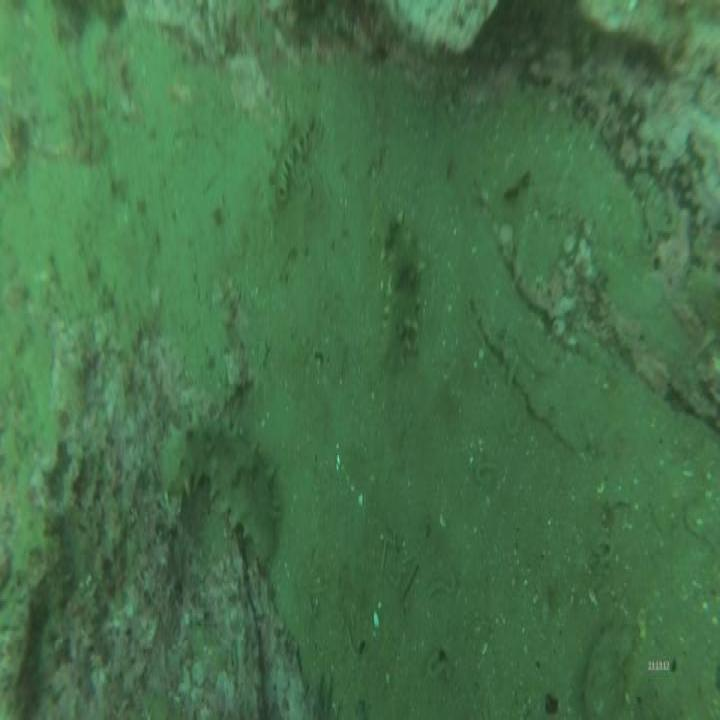holothurian: (158, 409, 283, 571), (365, 197, 429, 375), (269, 103, 318, 212)
